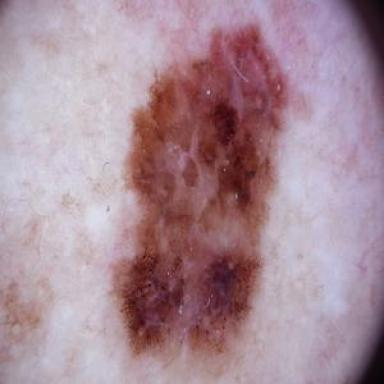Melanoma: (113, 25, 287, 352)
